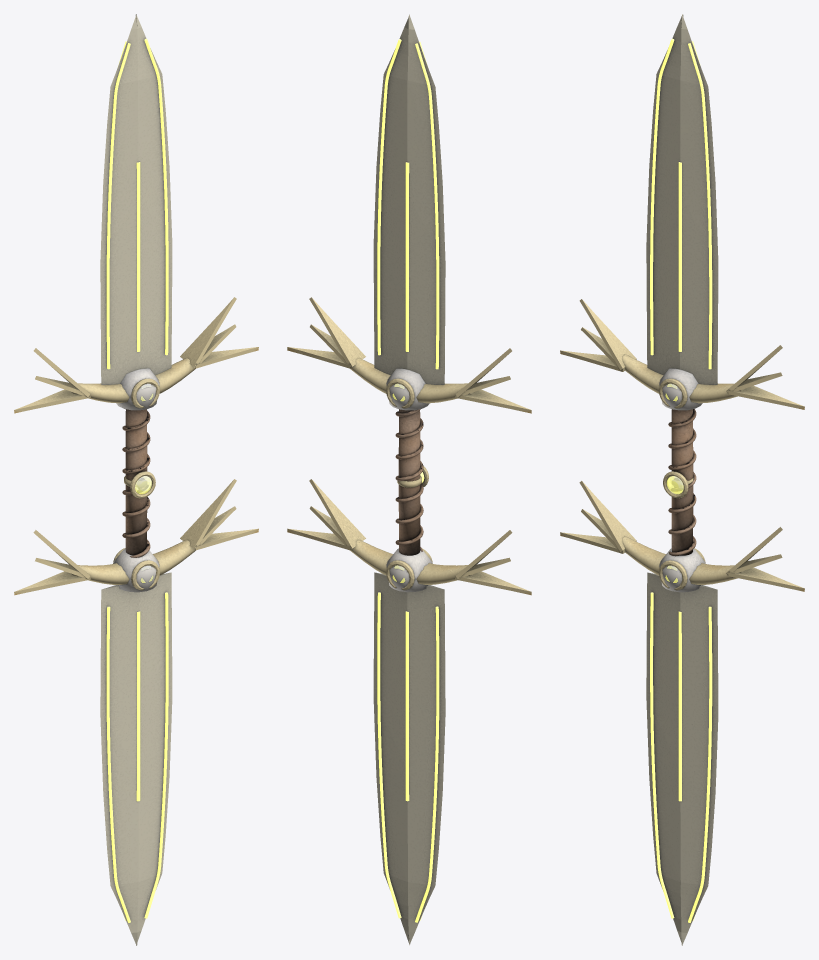
The model's file is arma_lend_espada_dupla_celestial.glb.
3 views of the same model, side by side, from view 1: azimuth 30°, elevation 25°; view 2: azimuth 150°, elevation 25°; view 3: azimuth 330°, elevation 25° (orthographic).
Parts seen in each view (by area): view 1: arma_lend_espada_dupla_celestial, lamina_baixo_gume1b, lamina_cima_gume1, lamina_cima_gume-1, lamina_baixo_gume-1b, lamina_baixo_runa1, lamina_cima_runa-1; view 2: arma_lend_espada_dupla_celestial, lamina_baixo_gume1, lamina_cima_gume1b, lamina_cima_gume-1b, lamina_baixo_gume-1, lamina_cima_runa1, lamina_baixo_runa-1; view 3: arma_lend_espada_dupla_celestial, lamina_baixo_gume-1b, lamina_cima_gume1, lamina_cima_gume-1, lamina_baixo_gume1b, lamina_baixo_runa1, lamina_cima_runa-1.
Boxes of the visible parts, left/top/right/bottom form: arma_lend_espada_dupla_celestial: left=14, top=14, right=258, bottom=945; lamina_baixo_gume1b: left=144, top=592, right=168, bottom=918; lamina_cima_gume1: left=144, top=38, right=168, bottom=355; lamina_cima_gume-1: left=106, top=43, right=130, bottom=369; lamina_baixo_gume-1b: left=106, top=606, right=130, bottom=922; lamina_baixo_runa1: left=136, top=611, right=140, bottom=801; lamina_cima_runa-1: left=136, top=162, right=140, bottom=351; arma_lend_espada_dupla_celestial: left=287, top=14, right=531, bottom=945; lamina_baixo_gume1: left=377, top=592, right=401, bottom=918; lamina_cima_gume1b: left=377, top=39, right=401, bottom=355; lamina_cima_gume-1b: left=415, top=43, right=439, bottom=369; lamina_baixo_gume-1: left=415, top=606, right=439, bottom=922; lamina_cima_runa1: left=405, top=162, right=409, bottom=351; lamina_baixo_runa-1: left=405, top=611, right=409, bottom=801; arma_lend_espada_dupla_celestial: left=560, top=14, right=804, bottom=945; lamina_baixo_gume-1b: left=650, top=592, right=674, bottom=918; lamina_cima_gume1: left=688, top=43, right=712, bottom=369; lamina_cima_gume-1: left=650, top=38, right=674, bottom=355; lamina_baixo_gume1b: left=688, top=606, right=712, bottom=922; lamina_baixo_runa1: left=678, top=611, right=681, bottom=801; lamina_cima_runa-1: left=678, top=162, right=681, bottom=351.
Bounding box in the file's own units: 0.5071 × 1.85 × 0.085.
18 materials, 1 textured.
